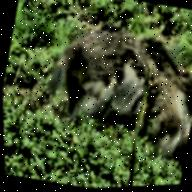boar: (28, 0, 192, 191)
